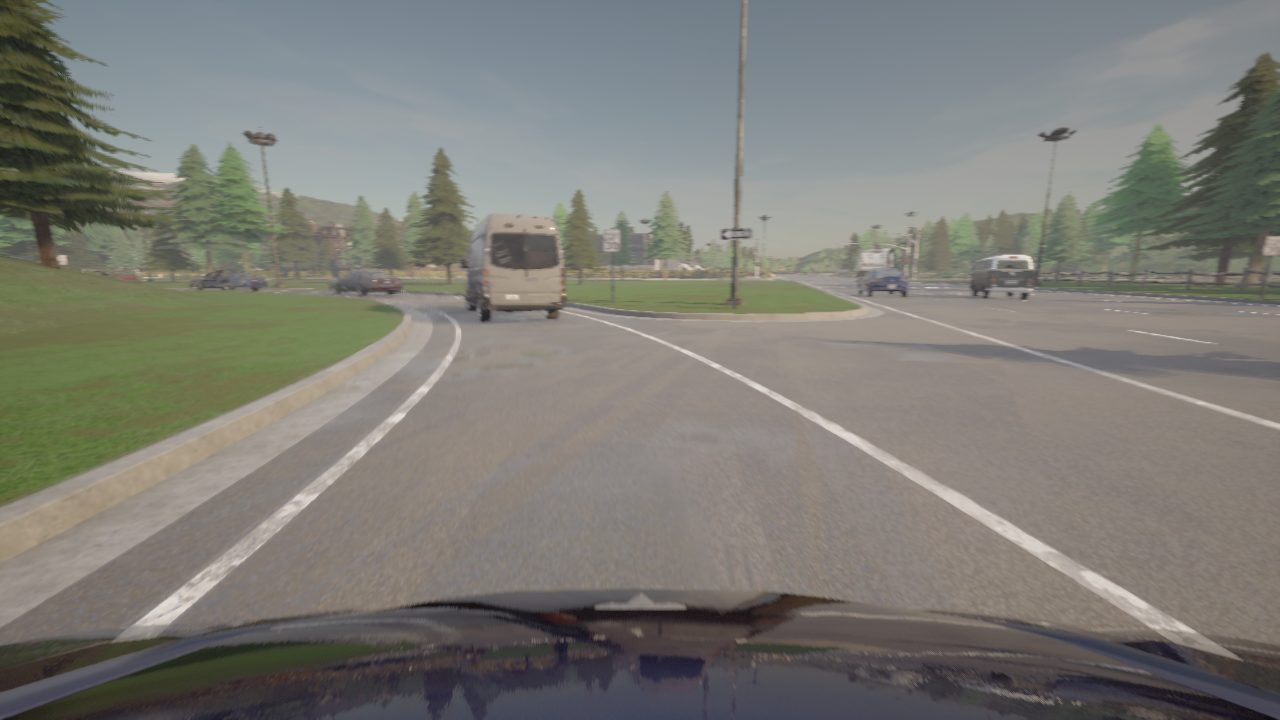cyclist: (0, 588, 1279, 719), (460, 214, 565, 322), (970, 254, 1032, 299), (328, 270, 401, 296), (853, 248, 904, 285), (188, 271, 266, 291), (857, 269, 907, 297), (91, 270, 140, 283), (798, 273, 800, 274)
